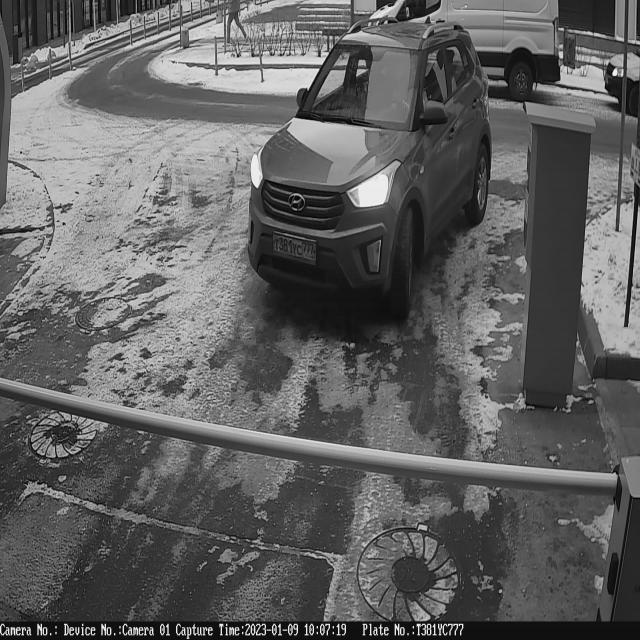car-plate-numbers: (270, 225, 323, 269)
